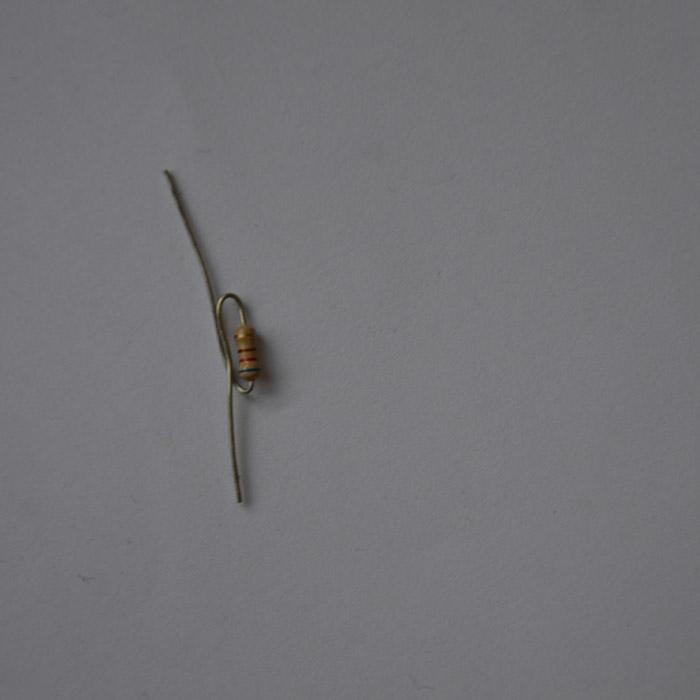resistor: (232, 323, 260, 379)
